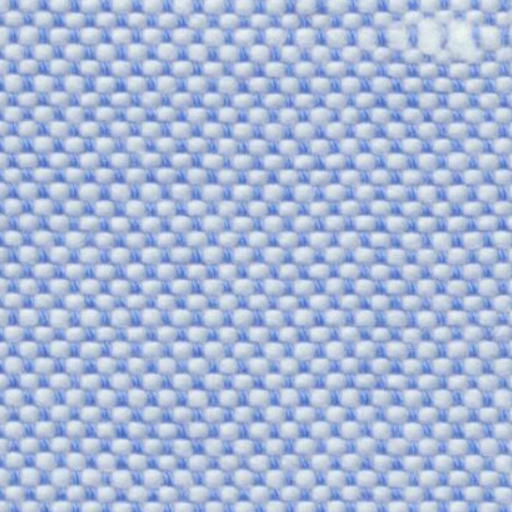DaiSha: (341, 10, 497, 63)
